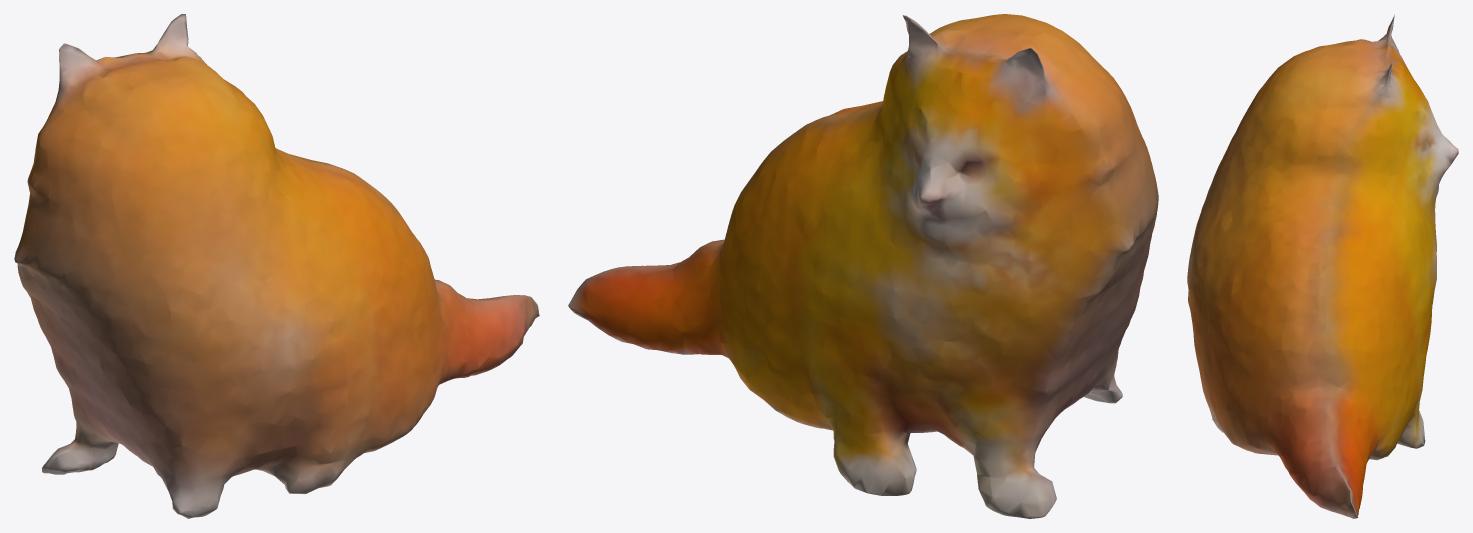
3 renders of one model, left to right at view 1: azimuth 30°, elevation 25°; view 2: azimuth 150°, elevation 25°; view 3: azimuth 270°, elevation 25°, orthographic. The views are drawn at different scales.
Parts seen in each view (by area): view 1: geometry_0; view 2: geometry_0; view 3: geometry_0.
Part boxes in pixels (x1=…): geometry_0: x1=14, y1=14, x2=539, y2=518; geometry_0: x1=568, y1=14, x2=1158, y2=518; geometry_0: x1=1187, y1=14, x2=1458, y2=518.
Size of the model in its own units: 0.9062 by 0.7212 by 0.4764.
